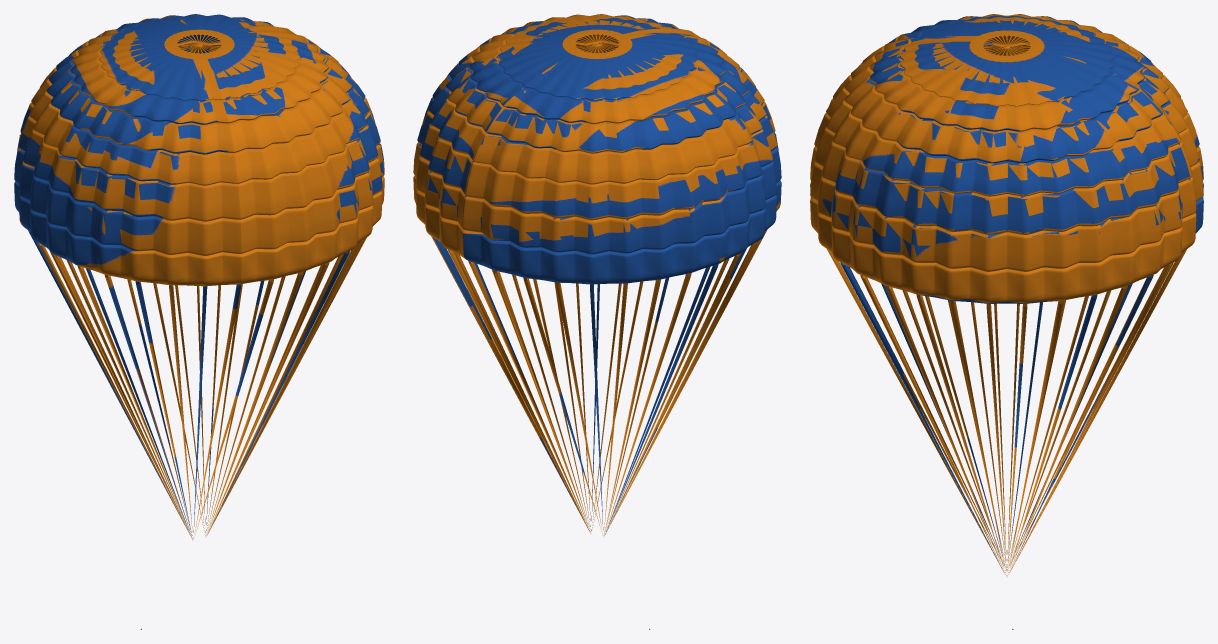
Rendered from parachute.obj.
The picture shows the model from 3 angles, left to right: view 1: azimuth 30°, elevation 25°; view 2: azimuth 150°, elevation 25°; view 3: azimuth 270°, elevation 25°; orthographic projection. The views are drawn at different scales.
Visible parts, largest first — view 1: pSphere1_meshId0_name; view 2: pSphere1_meshId0_name; view 3: pSphere1_meshId0_name.
Part boxes in pixels (x1,y1,x2,y2): pSphere1_meshId0_name: [14, 14, 384, 629]; pSphere1_meshId0_name: [413, 14, 781, 629]; pSphere1_meshId0_name: [810, 14, 1203, 629].
Bounding box in the file's own units: 534 × 917 × 534.
